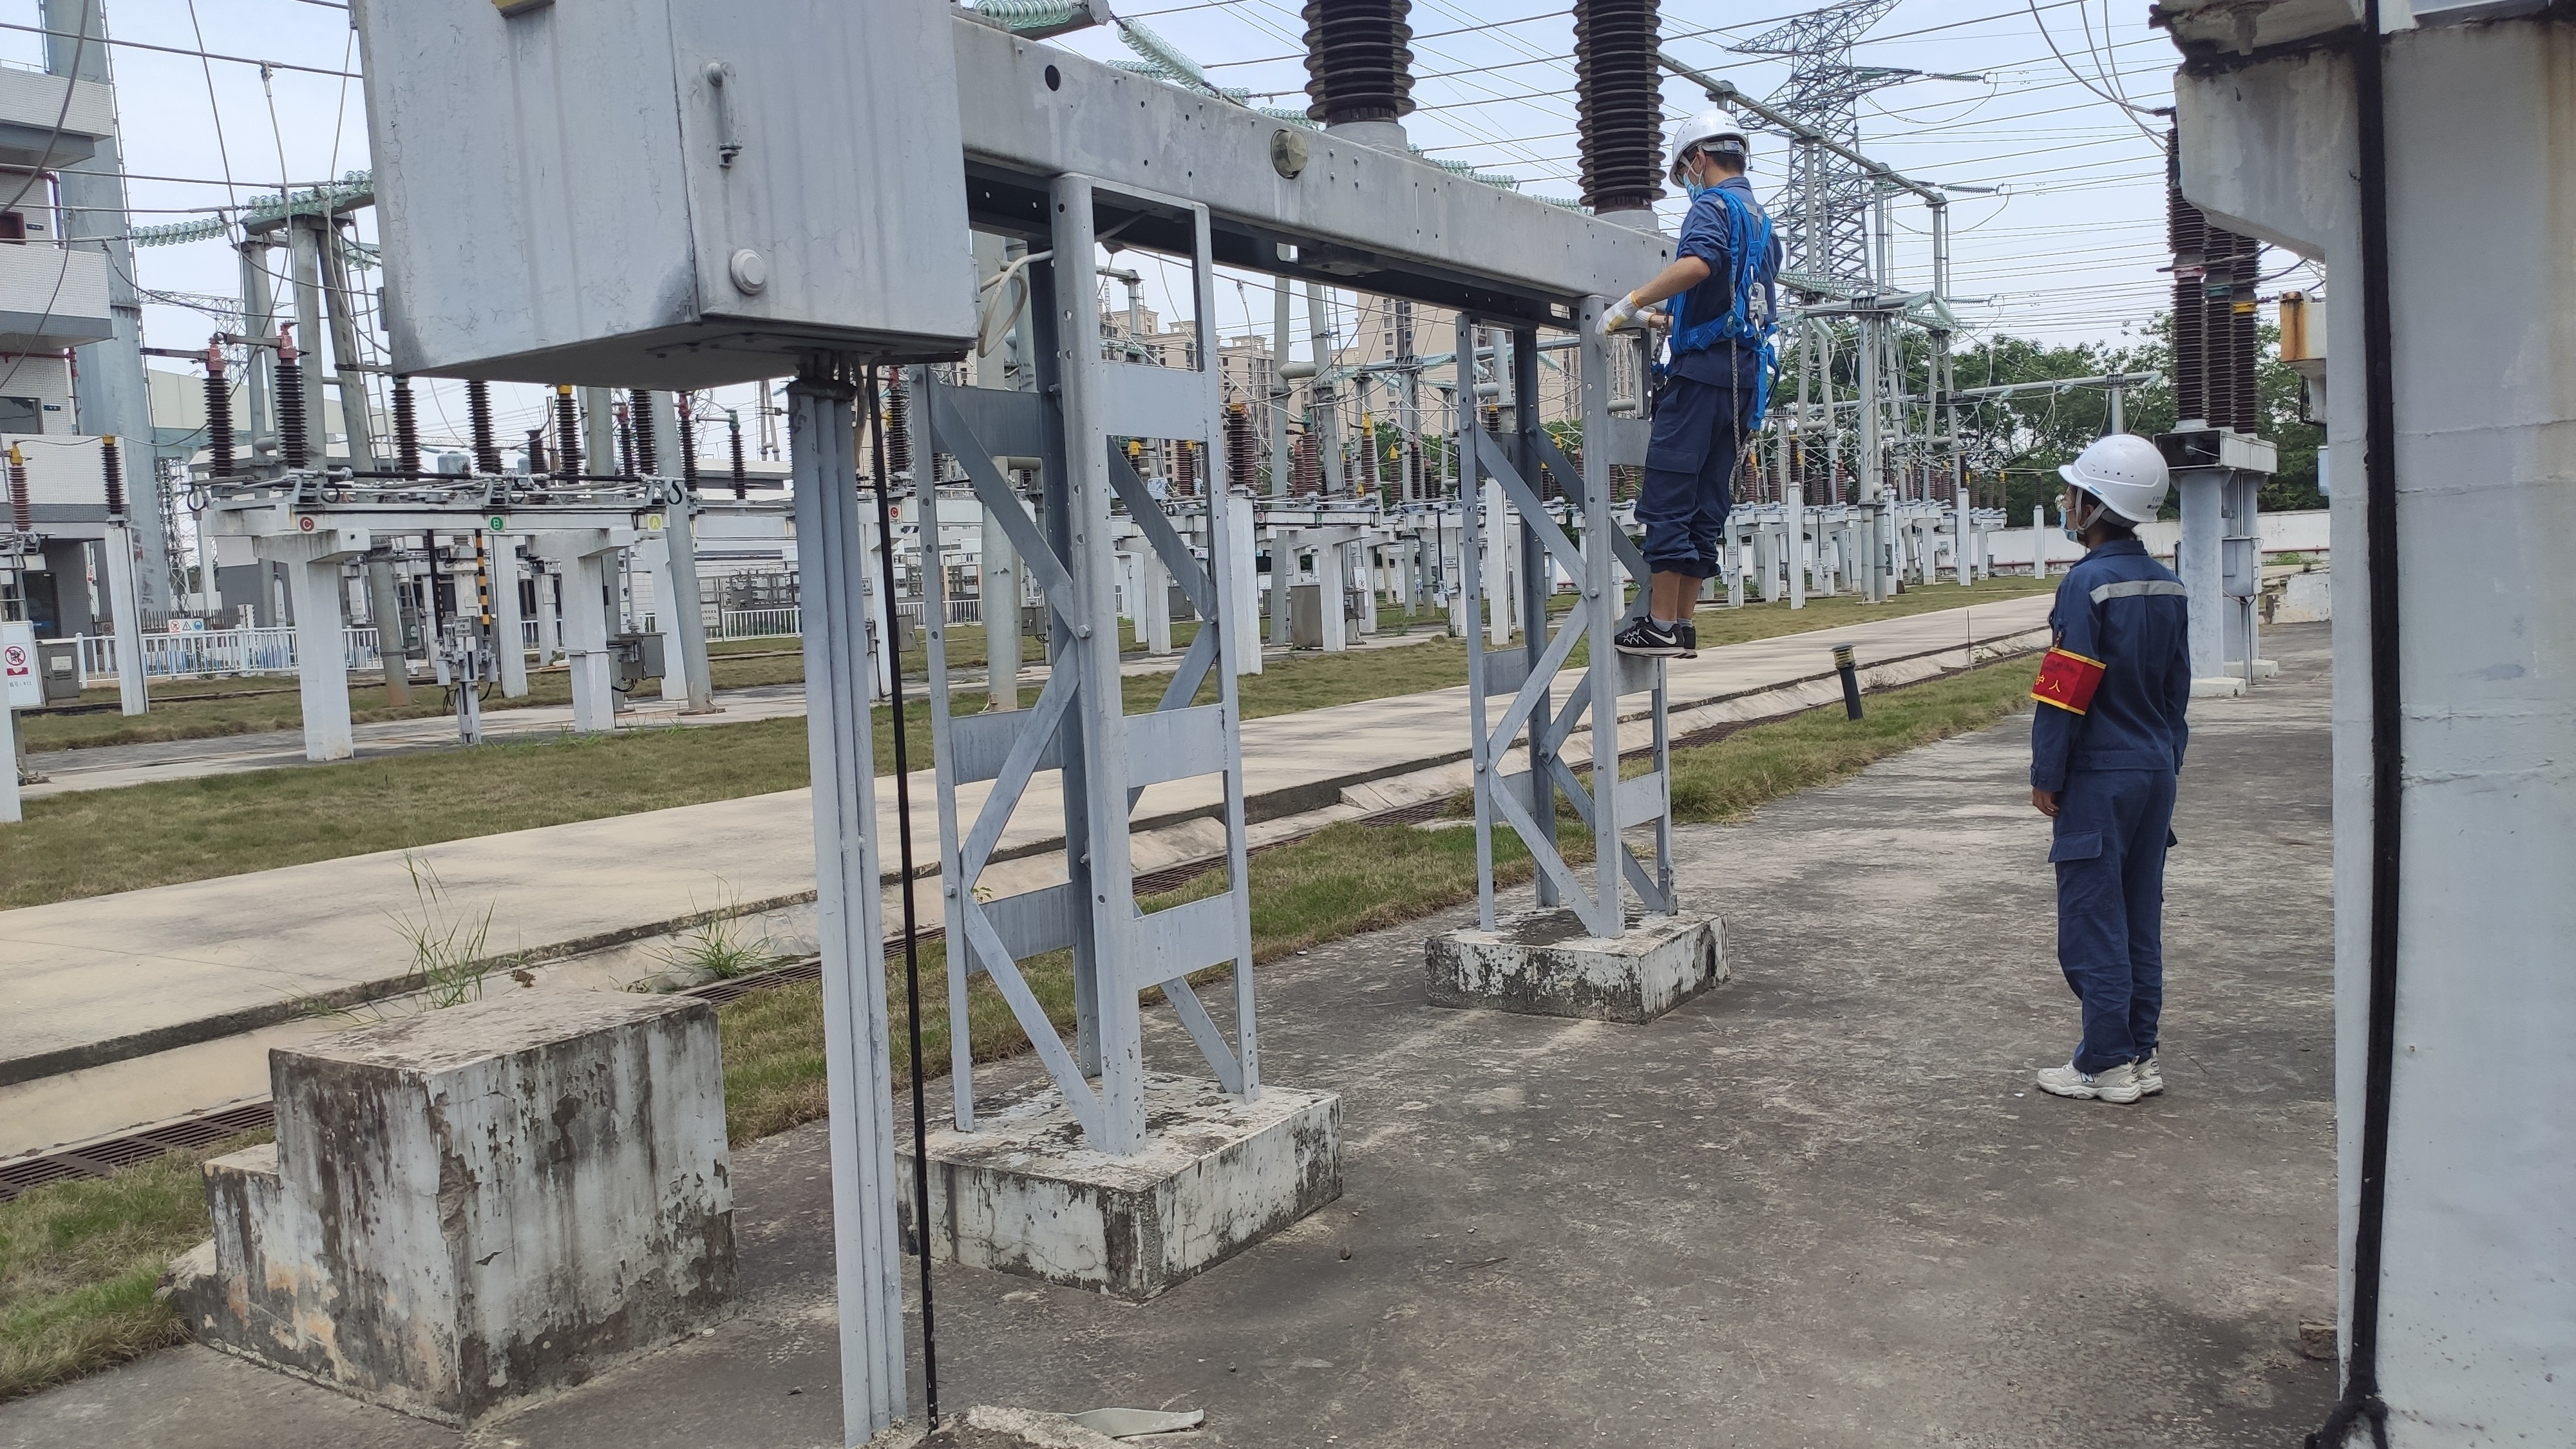downsuit: (2054, 787, 2178, 1065), (1637, 379, 1766, 575)
upsuit: (2028, 541, 2197, 775), (1644, 182, 1783, 364)
wrongbottom: (1637, 545, 1718, 640)
wrongtop: (1619, 253, 1729, 326)
